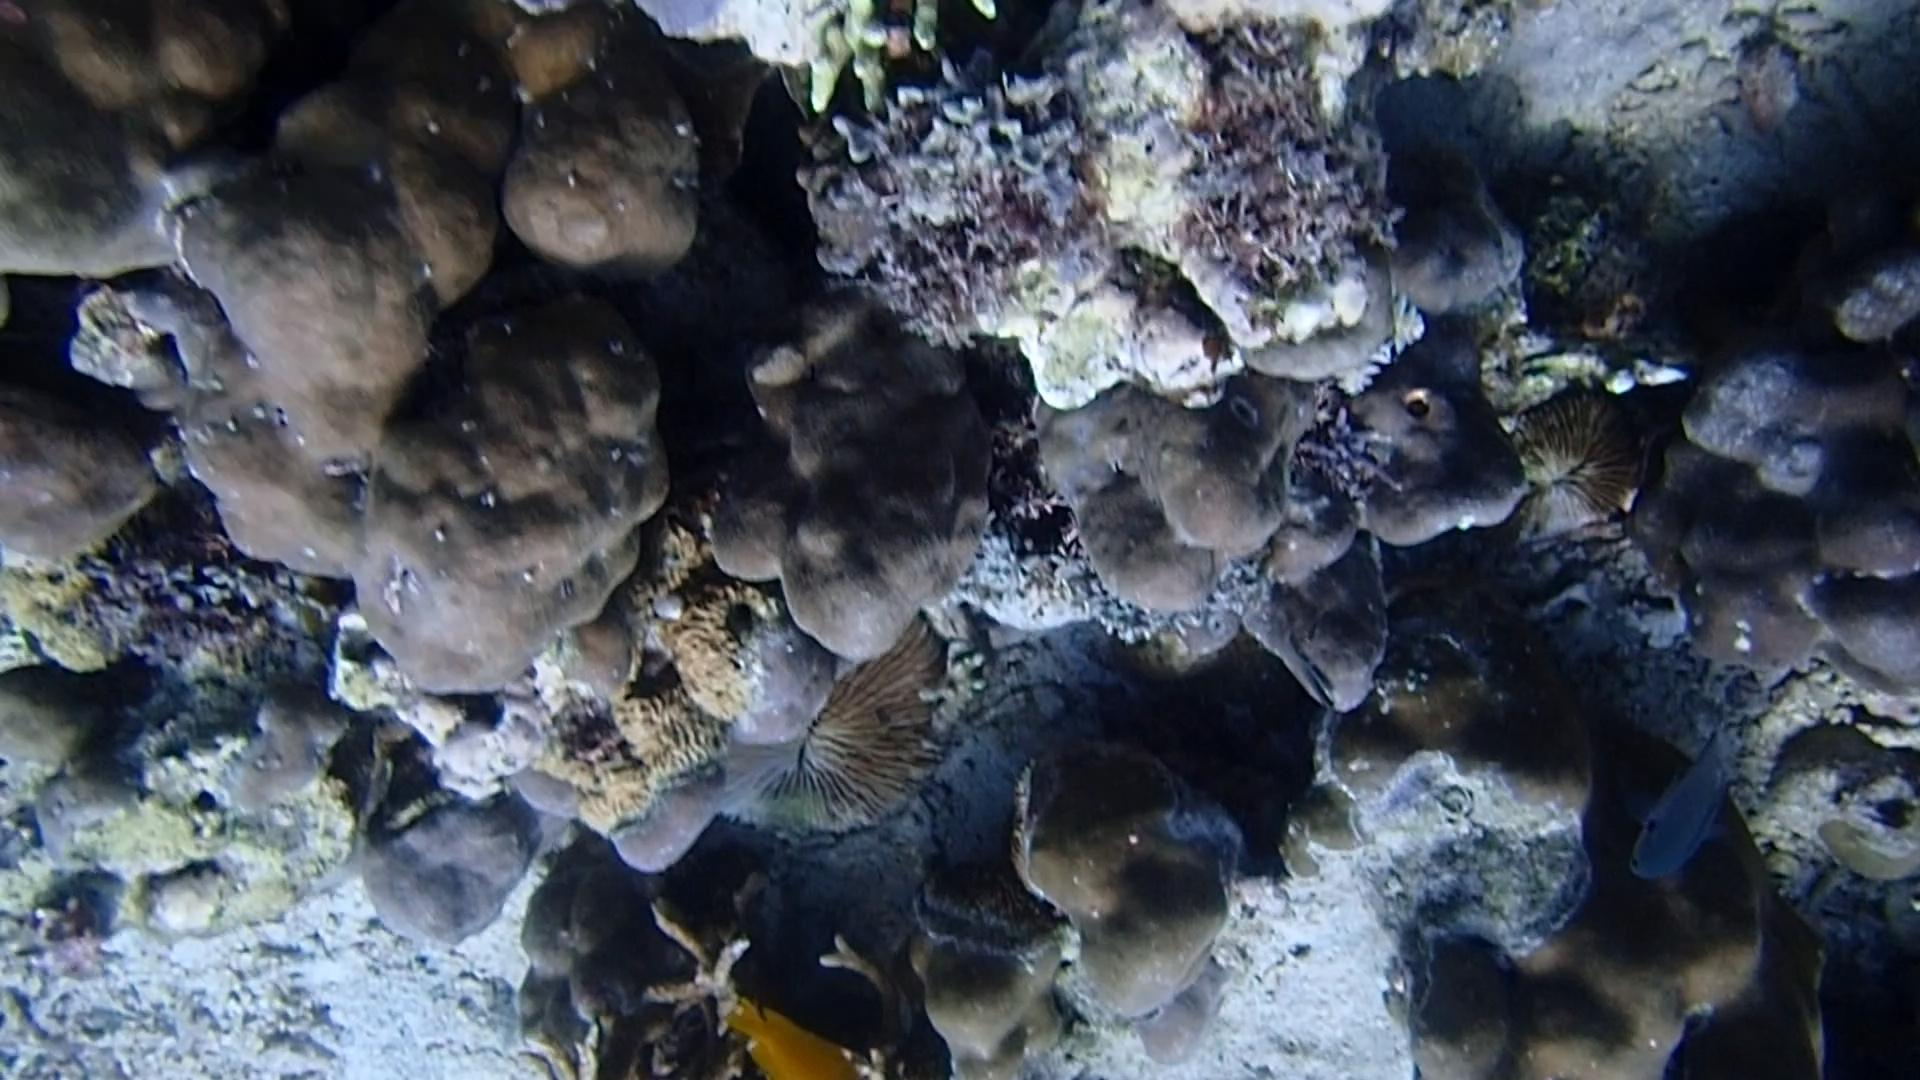Blue Fish Two: (1625, 721, 1741, 894)
Yellow Fish: (719, 990, 882, 1080)
